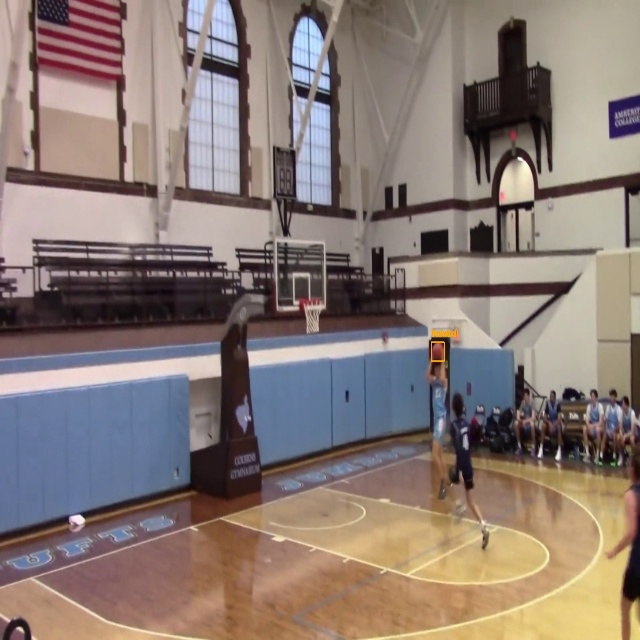Basketball: (432, 342, 444, 361)
